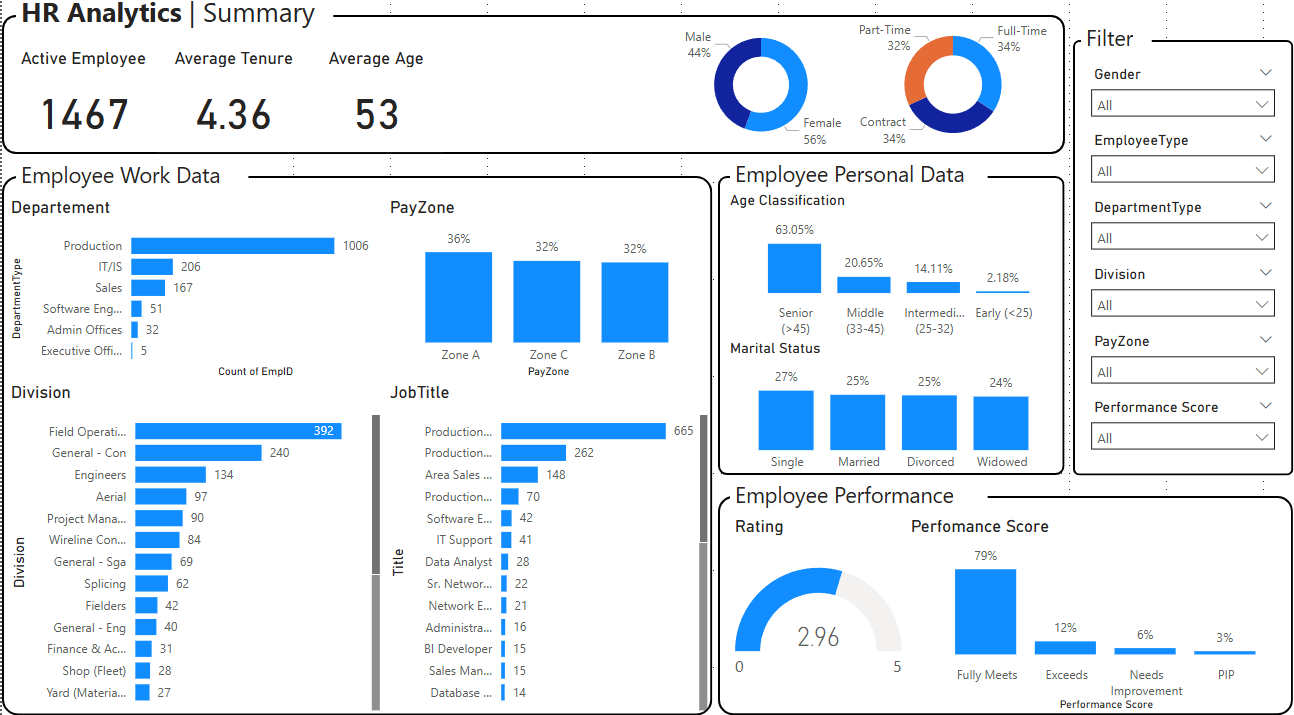

The dashboard page shown, as its layout file describes it:
{"tool":"powerbi","page":{"name":"Summary","canvas":[1280,720],"ordinal":0},"visuals":[{"type":"shape","box":[1060,51,218,431],"z":0},{"type":"shape","box":[709,186,343,296],"z":1000},{"type":"shape","box":[709,503,569,217],"z":2000},{"type":"shape","box":[0,186,703,534],"z":3000},{"type":"shape","box":[0,27,1052,137.6],"z":5000},{"type":"card","title":"Active Employee","fields":{"Values":["Count(employee_data.EmpID)"]},"box":[4,59,153,103],"z":6000},{"type":"card","title":"Average Tenure","fields":{"Values":["Avg(employee_data.Tenure)"]},"box":[153,59,152,103],"z":7000},{"type":"donutChart","fields":{"Y":["Count(employee_data.EmpID)"],"Category":["employee_data.GenderCode"]},"box":[659,26.5,184,138],"z":8000},{"type":"donutChart","fields":{"Category":["employee_data.EmployeeType"],"Y":["Count(employee_data.EmpID)"]},"box":[830.4,27,221.7,137.6],"z":9000},{"type":"clusteredBarChart","title":"Division","fields":{"Category":["employee_data.Division"],"Y":["CountNonNull(employee_data.EmpID)"]},"box":[4,390,375,330],"z":10000},{"type":"clusteredBarChart","title":"Departement","fields":{"Category":["employee_data.DepartmentType"],"Y":["Count(employee_data.EmpID)"]},"box":[4,207,375,183],"z":11000},{"type":"clusteredBarChart","title":"JobTitle","fields":{"Category":["employee_data.Title"],"Y":["CountNonNull(employee_data.EmpID)"]},"box":[379,390,324,330],"z":12000},{"type":"card","title":"Average Age","fields":{"Values":["Avg(employee_data.Age)"]},"box":[305,59,131,103],"z":13000},{"type":"columnChart","title":"Perfomance Score","fields":{"Category":["employee_data.Performance Score"],"Y":["Divide(Count(employee_data.EmpID), ScopedEval(Count(employee_data.EmpID), []))"]},"box":[895,523,385,197],"z":14000},{"type":"gauge","title":"Rating","fields":{"Y":["Avg(employee_data.Current Employee Rating)"],"MaxValue":["Max(employee_data.Current Employee Rating)1"]},"box":[720,523,175,197],"z":15000},{"type":"columnChart","title":"PayZone","fields":{"Category":["employee_data.PayZone"],"Y":["CountNonNull(employee_data.EmpID)"]},"box":[379,207,324,183],"z":16000},{"type":"slicer","fields":{"Values":["employee_data.EmployeeType"]},"box":[1068,138,202,66],"z":17000},{"type":"textbox","box":[14,165,230,42],"z":18000},{"type":"textbox","box":[720.5,481.8,255.1,41.1],"z":19000},{"type":"textbox","box":[720.5,164.6,255.1,42.1],"z":20000},{"type":"slicer","fields":{"Values":["employee_data.Gender"]},"box":[1068,72,202,66],"z":21000},{"type":"slicer","fields":{"Values":["employee_data.DepartmentType"]},"box":[1068,204,202,66],"z":22000},{"type":"slicer","fields":{"Values":["employee_data.Division"]},"box":[1068,270,202,66],"z":23000},{"type":"columnChart","title":"Marital Status","fields":{"Category":["employee_data.MaritalDesc"],"Y":["Count(employee_data.EmpID)"]},"box":[716,348,336,139],"z":24000},{"type":"slicer","fields":{"Values":["employee_data.Performance Score"]},"box":[1068,402,202,66],"z":25000},{"type":"textbox","box":[1067.9,29.3,70.4,43],"z":26000},{"type":"slicer","fields":{"Values":["employee_data.PayZone"]},"box":[1068,336,202,66],"z":27000},{"type":"columnChart","title":"Age Classification","fields":{"Category":["employee_data.AgeClassification"],"Y":["CountNonNull(employee_data.EmpID)"]},"box":[716,202,336,151],"z":28000},{"type":"textbox","box":[14,0,314,51],"z":28500}]}

Visuals, with their boxes in screenshot pixels (x1, y1, x2, y2), scaled from the page's 1280x720 canvas onto the 1294x715 screenshot:
shape: left=1072, top=51, right=1292, bottom=479
shape: left=717, top=185, right=1064, bottom=479
shape: left=717, top=500, right=1292, bottom=714
shape: left=0, top=185, right=711, bottom=714
shape: left=0, top=27, right=1064, bottom=163
"Active Employee" card: left=4, top=59, right=159, bottom=161
"Average Tenure" card: left=155, top=59, right=308, bottom=161
donutChart - Count(employee_data.EmpID) x employee_data.GenderCode: left=666, top=26, right=852, bottom=163
donutChart - employee_data.EmployeeType x Count(employee_data.EmpID): left=839, top=27, right=1064, bottom=163
"Division" clusteredBarChart: left=4, top=387, right=383, bottom=714
"Departement" clusteredBarChart: left=4, top=206, right=383, bottom=387
"JobTitle" clusteredBarChart: left=383, top=387, right=711, bottom=714
"Average Age" card: left=308, top=59, right=441, bottom=161
"Perfomance Score" columnChart: left=905, top=519, right=1293, bottom=714
"Rating" gauge: left=728, top=519, right=905, bottom=714
"PayZone" columnChart: left=383, top=206, right=711, bottom=387
slicer - employee_data.EmployeeType: left=1080, top=137, right=1284, bottom=203
textbox: left=14, top=164, right=247, bottom=206
textbox: left=728, top=478, right=986, bottom=519
textbox: left=728, top=163, right=986, bottom=205
slicer - employee_data.Gender: left=1080, top=72, right=1284, bottom=137
slicer - employee_data.DepartmentType: left=1080, top=203, right=1284, bottom=268
slicer - employee_data.Division: left=1080, top=268, right=1284, bottom=334
"Marital Status" columnChart: left=724, top=346, right=1064, bottom=484
slicer - employee_data.Performance Score: left=1080, top=399, right=1284, bottom=465
textbox: left=1080, top=29, right=1151, bottom=72
slicer - employee_data.PayZone: left=1080, top=334, right=1284, bottom=399
"Age Classification" columnChart: left=724, top=201, right=1064, bottom=351
textbox: left=14, top=0, right=332, bottom=51
